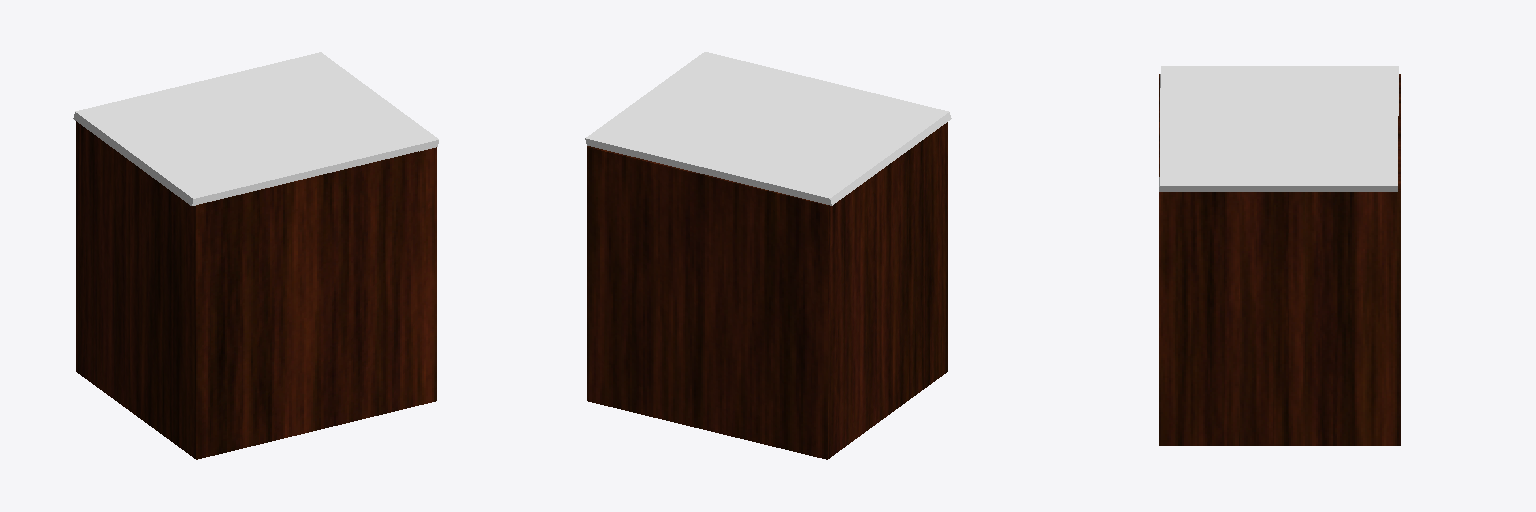
3 renders of one model, left to right at view 1: azimuth 30°, elevation 25°; view 2: azimuth 150°, elevation 25°; view 3: azimuth 270°, elevation 25°, orthographic.
Parts seen in each view (by area): view 1: pasted__polySurface113 pasted__pasted__pasted__pCube14 group51, pCube14; view 2: pasted__polySurface113 pasted__pasted__pasted__pCube14 group51, pCube14; view 3: pasted__polySurface113 pasted__pasted__pasted__pCube14 group51, pCube14.
Part boxes in pixels (x1,y1,x2,y2): pasted__polySurface113 pasted__pasted__pasted__pCube14 group51: (76, 121, 436, 459); pCube14: (73, 52, 438, 205); pasted__polySurface113 pasted__pasted__pasted__pCube14 group51: (587, 122, 947, 459); pCube14: (585, 52, 951, 205); pasted__polySurface113 pasted__pasted__pasted__pCube14 group51: (1159, 74, 1400, 445); pCube14: (1159, 66, 1398, 191).
Bounding box in the file's own units: 0.5643 × 0.5682 × 0.4759.
2 materials, 2 textured.